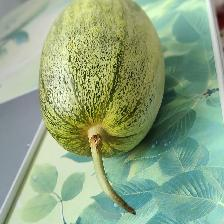gua: (51, 14, 139, 159)
